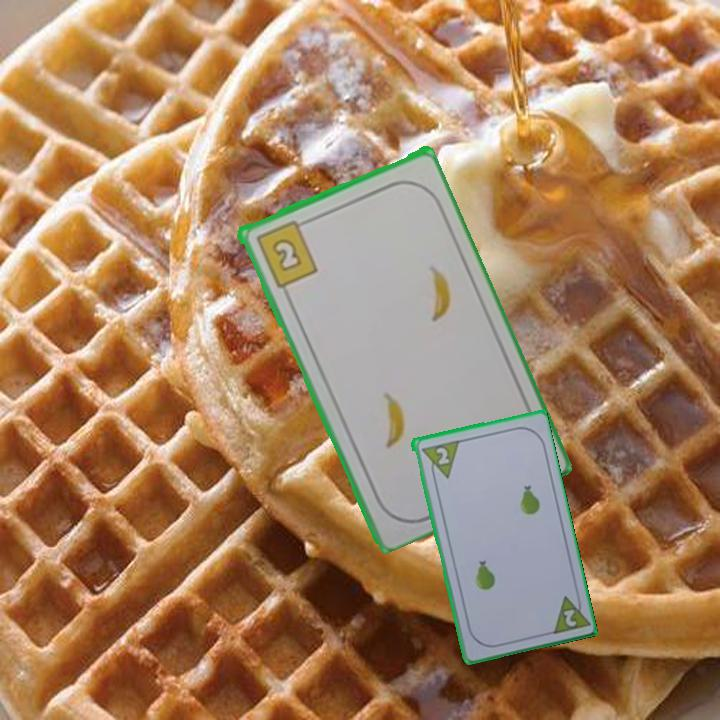2b: (252, 216, 320, 290)
2p: (559, 605, 579, 630), (432, 443, 452, 467)
